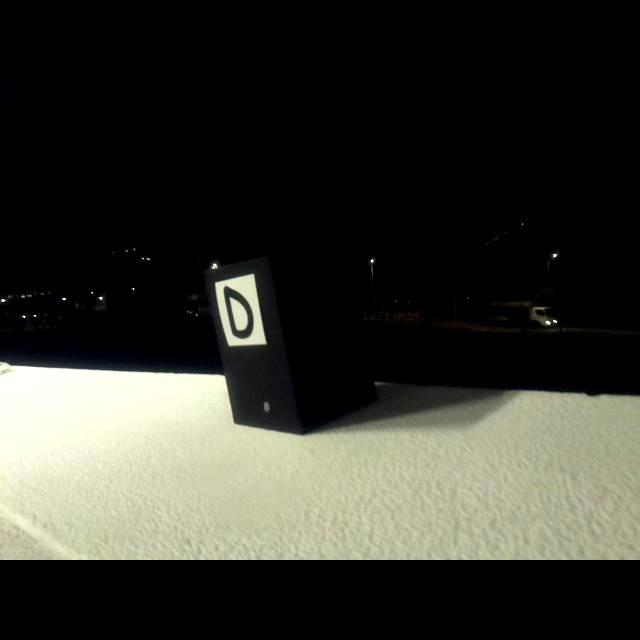D: (223, 285, 254, 339)
